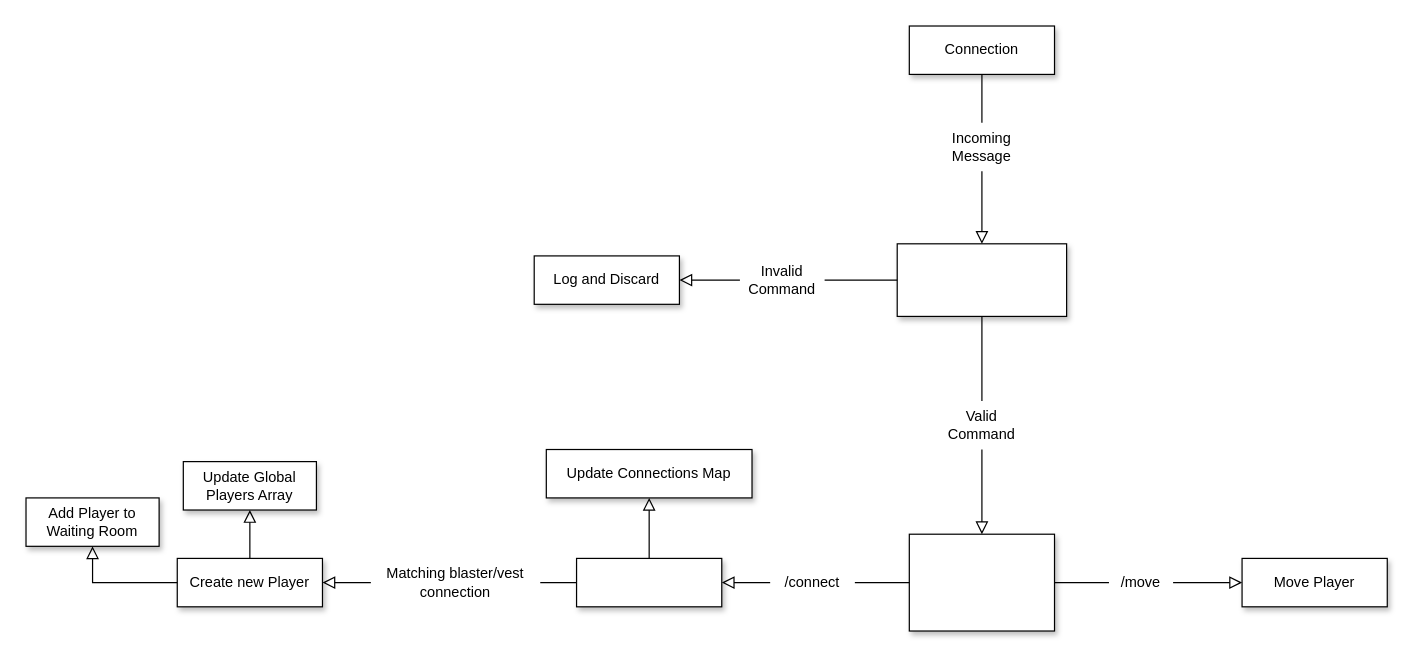
The diagram is 1416 pixels wide and 661 high, and some of its shapes have lost their labels. Here are the shapes that lost their labels. From the top down, the centre of each, then its label:
At pixel 982 281: "Parse and Validate".
At pixel 650 583: "Handle New Connection".
At pixel 982 583: "Take Action".
